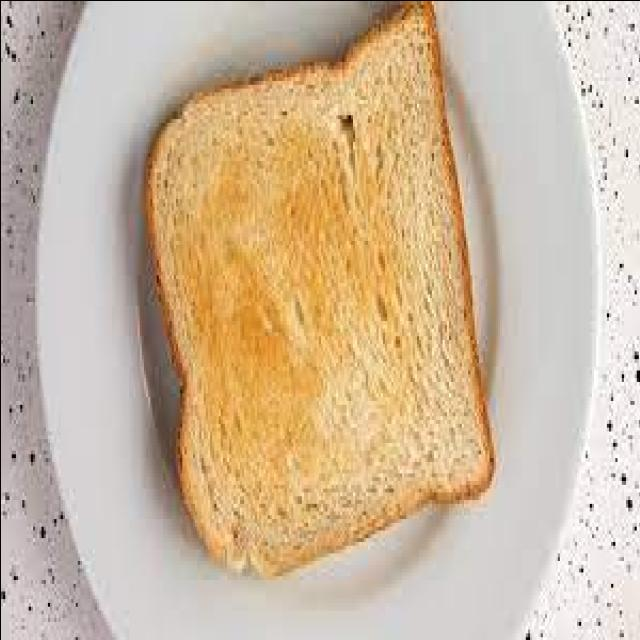roti tawar: (145, 0, 495, 579)
